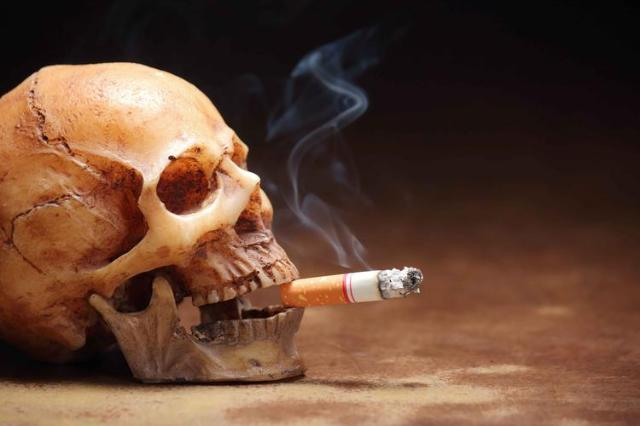Cigarette: (279, 267, 423, 309)
